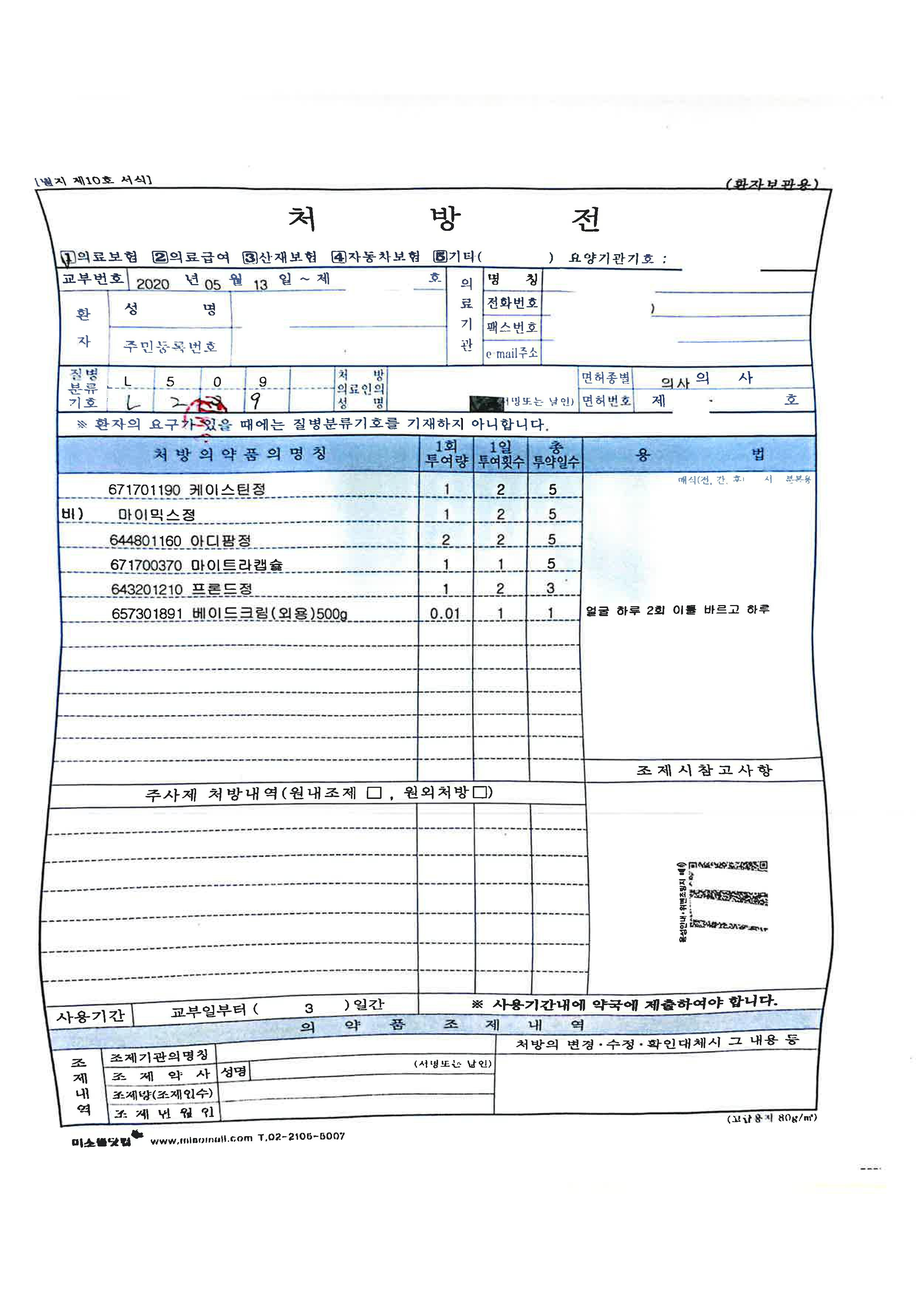row: (583, 436, 819, 757), (30, 188, 828, 272), (584, 761, 823, 990), (40, 270, 449, 367), (447, 269, 815, 364), (46, 1047, 494, 1119), (495, 1034, 816, 1108), (40, 995, 823, 1025), (38, 436, 580, 474), (38, 413, 815, 436), (40, 596, 582, 625), (41, 474, 583, 500), (40, 499, 582, 525), (40, 366, 333, 414), (40, 571, 579, 597), (40, 546, 581, 571), (37, 781, 583, 805), (38, 525, 581, 547), (334, 366, 580, 413), (580, 366, 815, 414), (296, 1015, 588, 1036)
